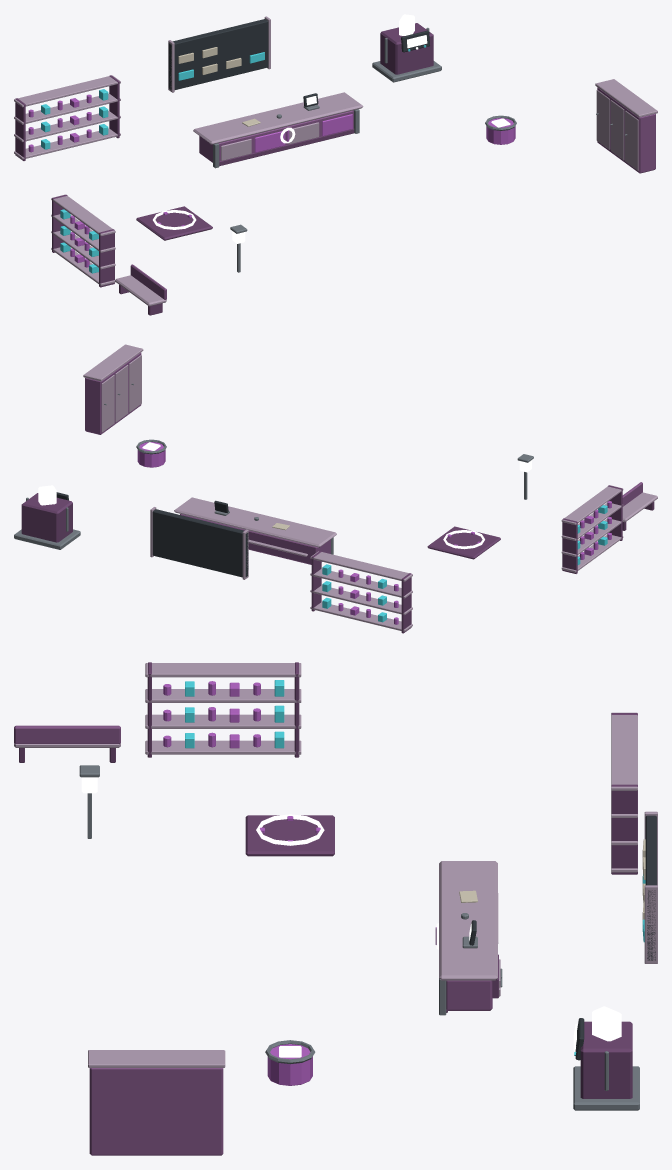
The model's file is moonstall_ward_shop.glb.
3 views of the same model, one above another, from view 1: azimuth 30°, elevation 25°; view 2: azimuth 150°, elevation 25°; view 3: azimuth 270°, elevation 25° (orthographic). The views are drawn at different scales.
Bounding box in the file's own units: 21.79 × 2.76 × 14.45.
